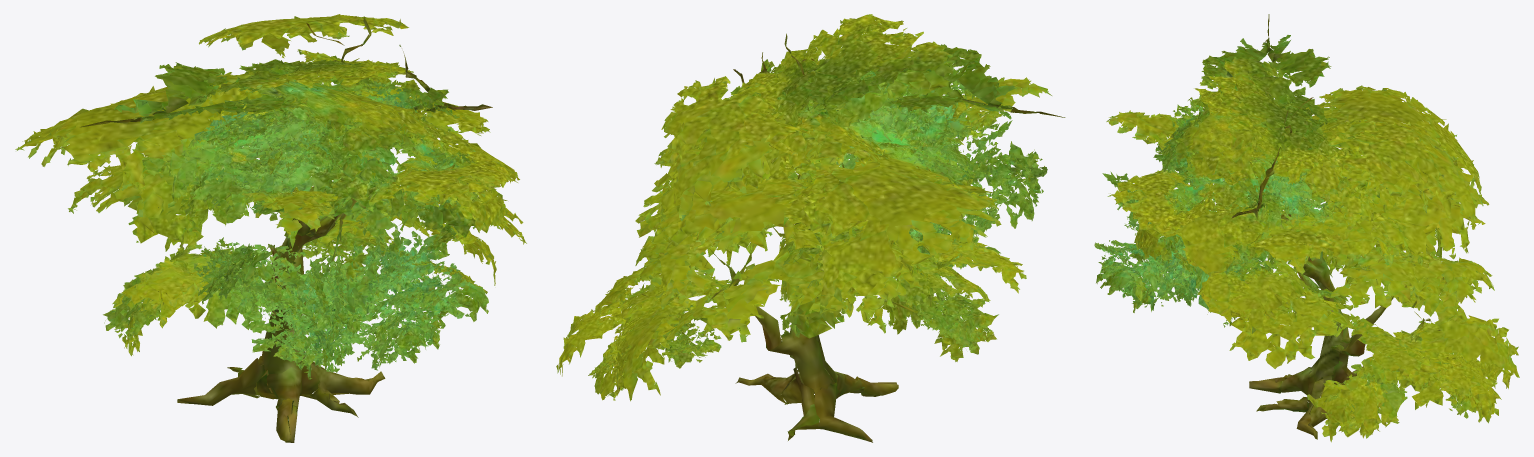
Rendered from foresttree.glb.
The picture shows the model from 3 angles, left to right: view 1: azimuth 30°, elevation 25°; view 2: azimuth 150°, elevation 25°; view 3: azimuth 270°, elevation 25°; orthographic projection. The views are drawn at different scales.
Parts seen in each view (by area): view 1: Mesh_0; view 2: Mesh_0; view 3: Mesh_0.
Part boxes in pixels (<box>): Mesh_0: <box>15,14,526,442</box>; Mesh_0: <box>556,14,1065,442</box>; Mesh_0: <box>1094,14,1519,442</box>.
Bounding box in the file's own units: 1.9 × 1.53 × 1.84.
Materials: 1 (1 with a texture image).
